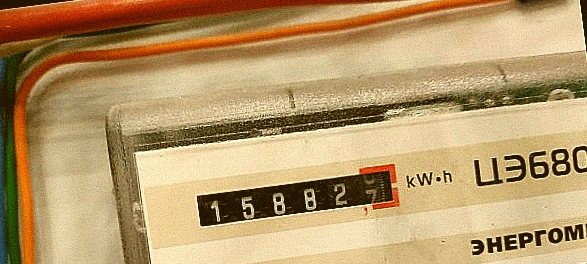1: (207, 196, 222, 224)
2: (330, 180, 349, 207)
5: (238, 193, 255, 221)
7: (362, 185, 379, 204)
8: (269, 189, 288, 216), (301, 185, 319, 212)
screen: (184, 157, 409, 241)
